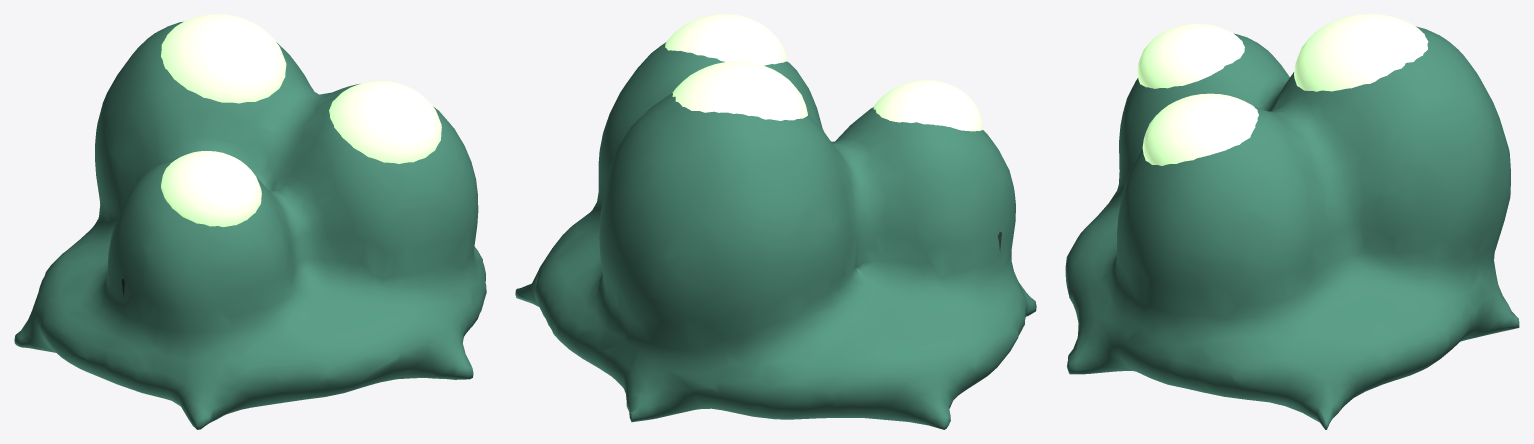
Rendered from gather_growth.glb.
The picture shows the model from 3 angles, left to right: view 1: azimuth 30°, elevation 25°; view 2: azimuth 150°, elevation 25°; view 3: azimuth 270°, elevation 25°; orthographic projection. The views are drawn at different scales.
Visible parts, largest first — view 1: gather_growth; view 2: gather_growth; view 3: gather_growth.
Boxes of the visible parts, left/top/right/bottom form: gather_growth: left=14, top=14, right=486, bottom=429; gather_growth: left=515, top=14, right=1036, bottom=429; gather_growth: left=1065, top=14, right=1519, bottom=429.
Bounding box in the file's own units: 0.7783 × 0.535 × 0.684.
